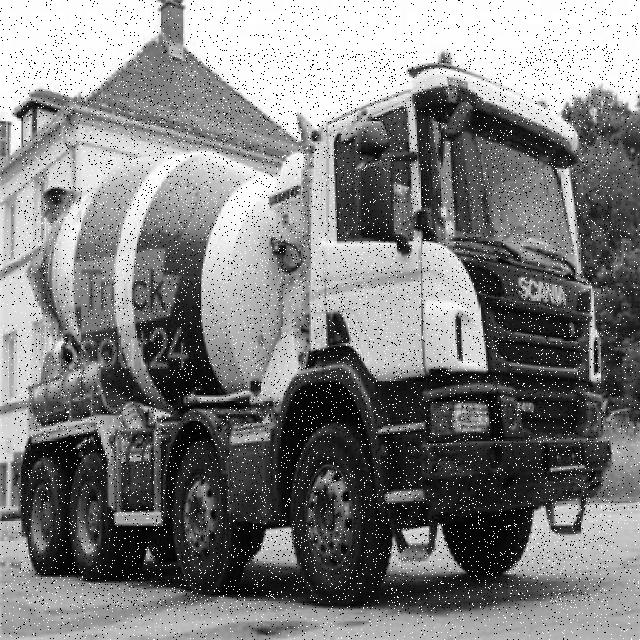Concrete Mixer: (19, 49, 613, 610)
